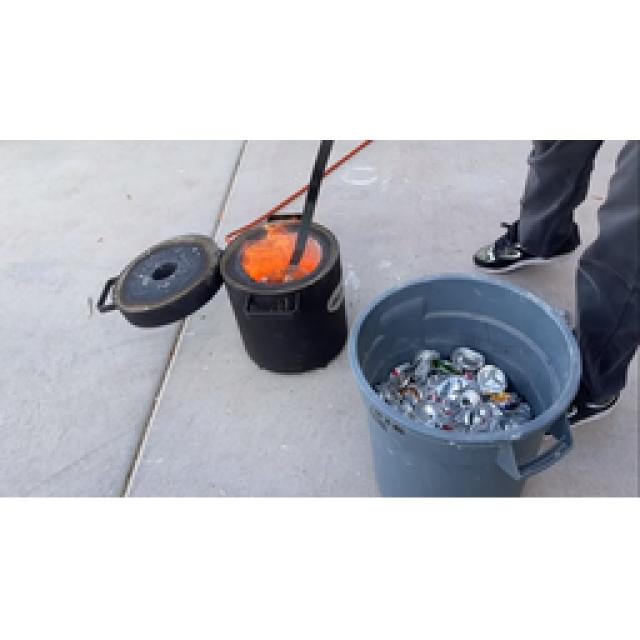alumunium: (378, 348, 528, 430)
